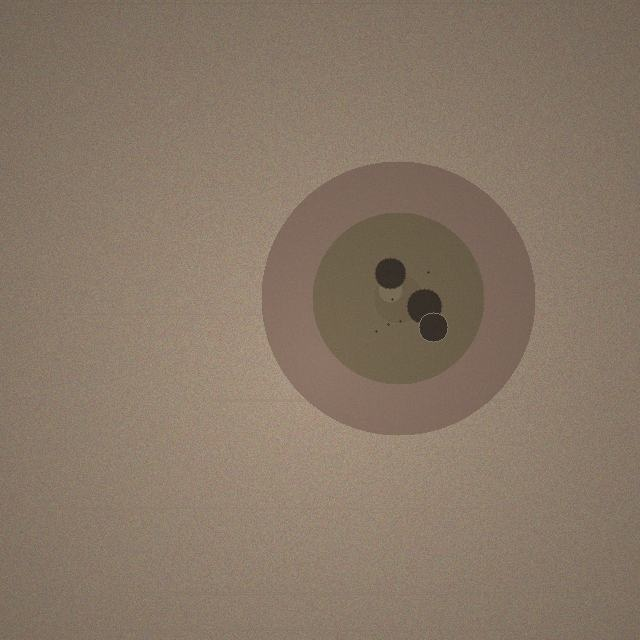shrinkage: (261, 161, 535, 435)
